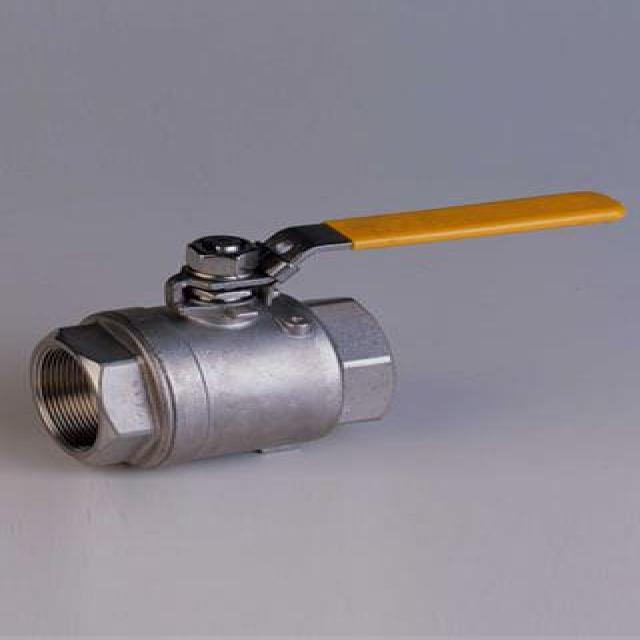opened_valve: (23, 187, 631, 476)
